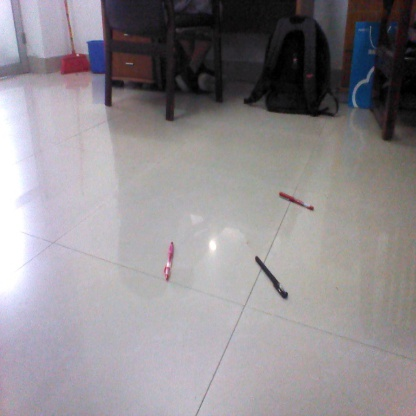pen: (253, 255, 290, 300), (276, 191, 314, 212), (162, 240, 175, 281)
